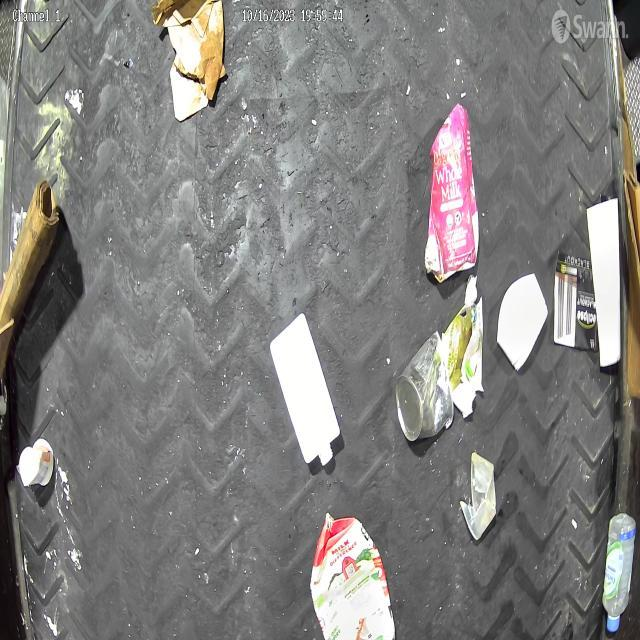can: (382, 318, 456, 458)
plastic_bottle: (602, 505, 638, 640)
